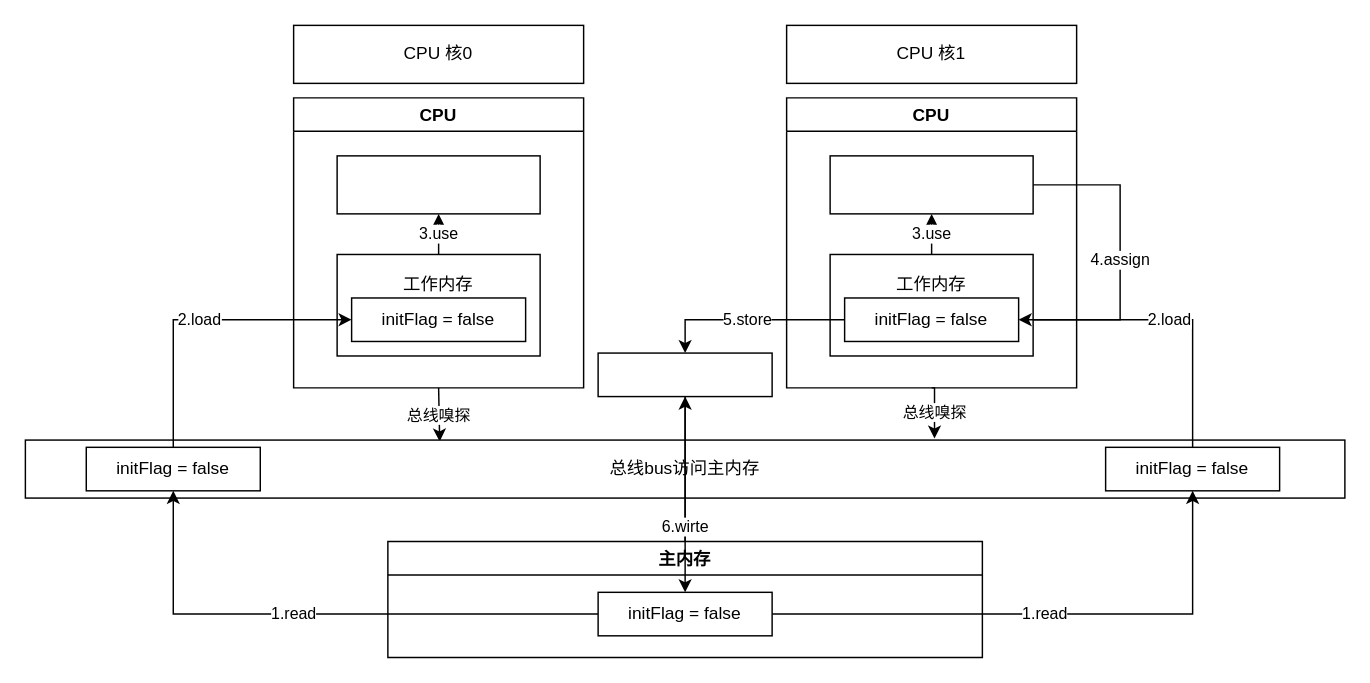
Some shapes in this 1370 by 683 pixel diagram are drawn without their labels. The centre of each missing label's shape, as x and y in pixels:
initFlag = true: (x=684, y=374)
Thread A(执行引擎) while(!initFlag): (x=438, y=184)
Thread B(执行引擎) initFlag= false -> true: (x=931, y=184)
